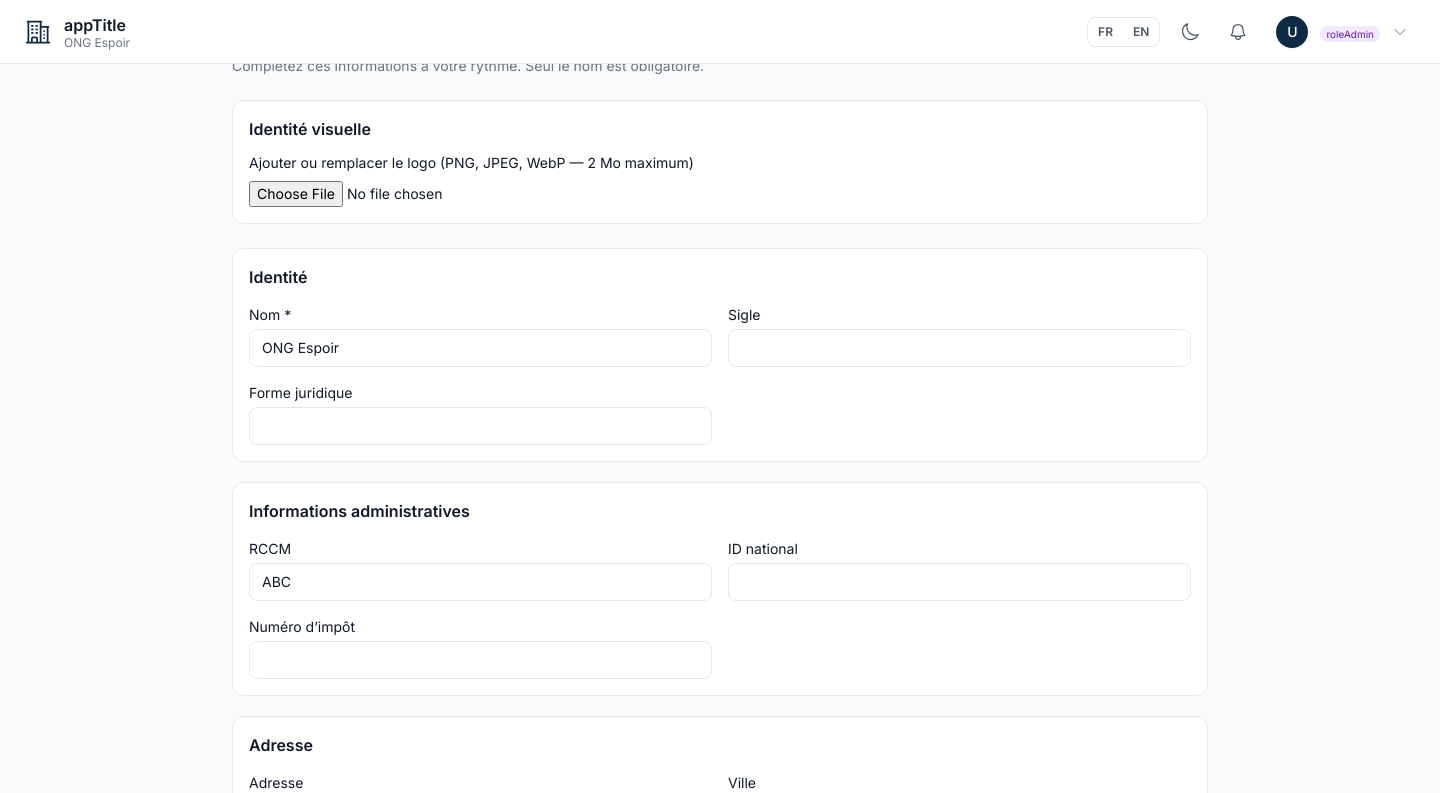
Test: loads optional fields and sends only changed values; refreshes the actual header
Expected: the field labelled "Sigle" is empty, [728,329,1191,367]
Replace the text in the field labelled "Nom *" with "ONG Nouvelle" at (480, 348), box [249,329,712,367]
(page scrolled)
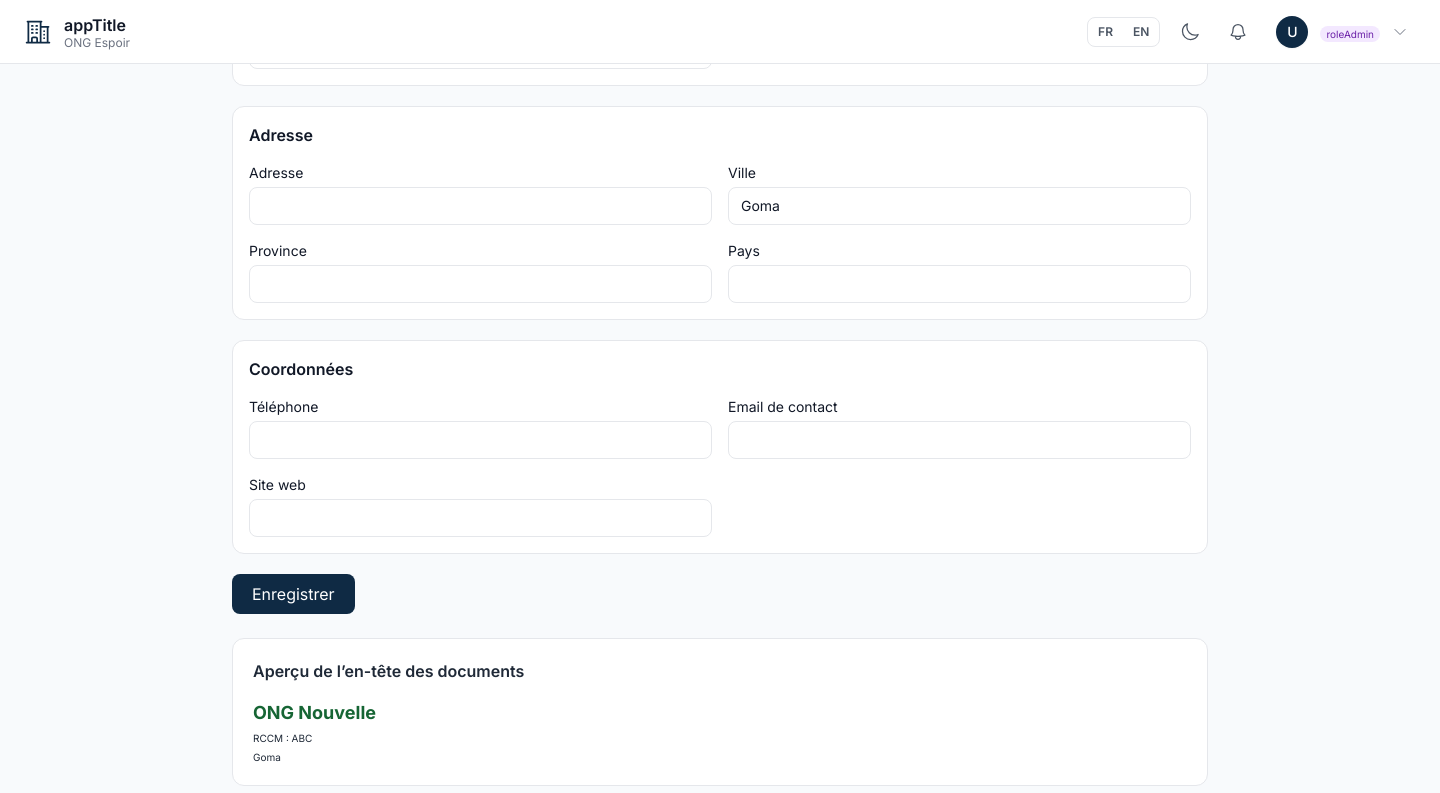
Click the button "Enregistrer" at (293, 594), box [232,574,355,614]
(page scrolled)
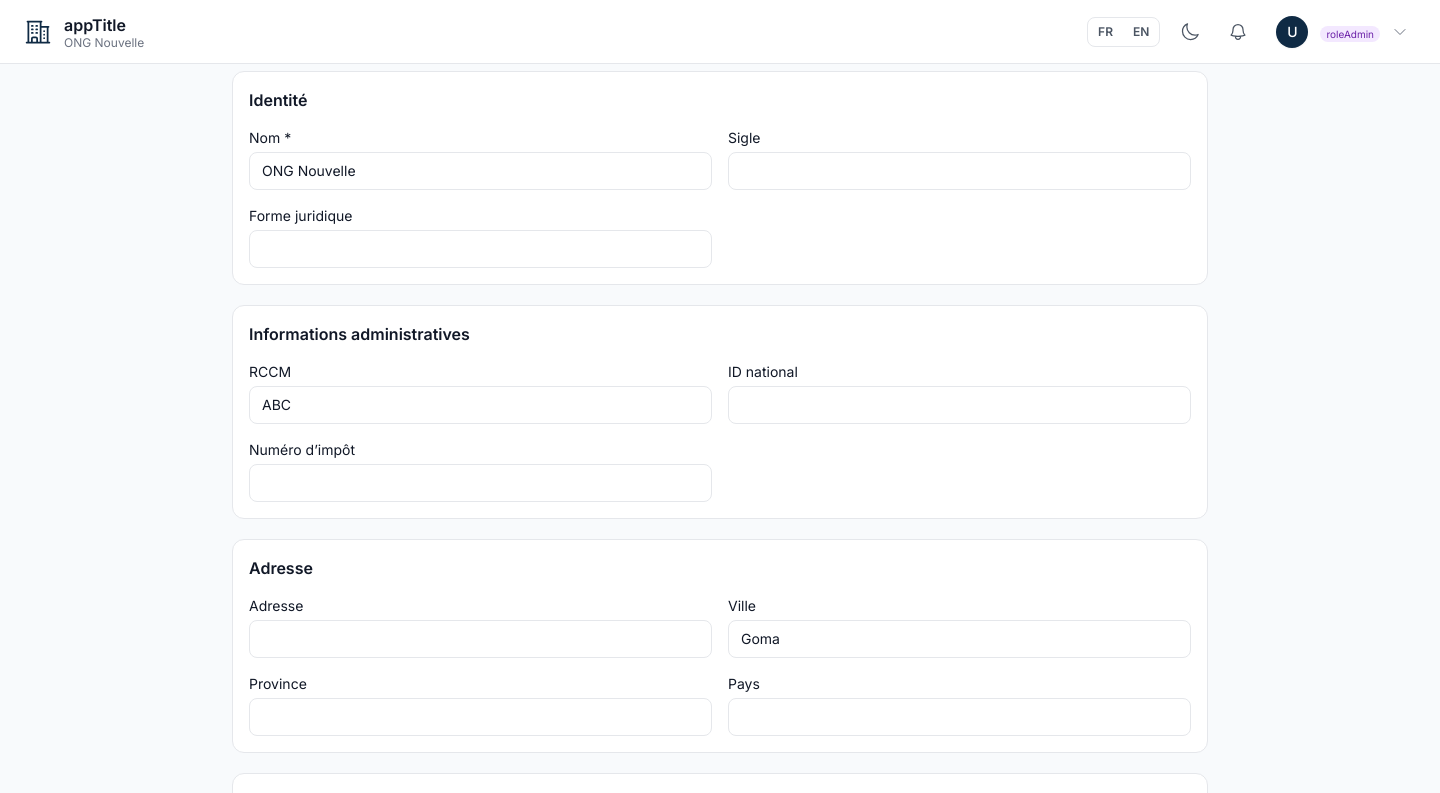
Expected: the field labelled "RCCM" holds "ABC", [249,386,712,424]
Expected: the text titled "ONG Nouvelle" is shown, [64,34,144,50]
